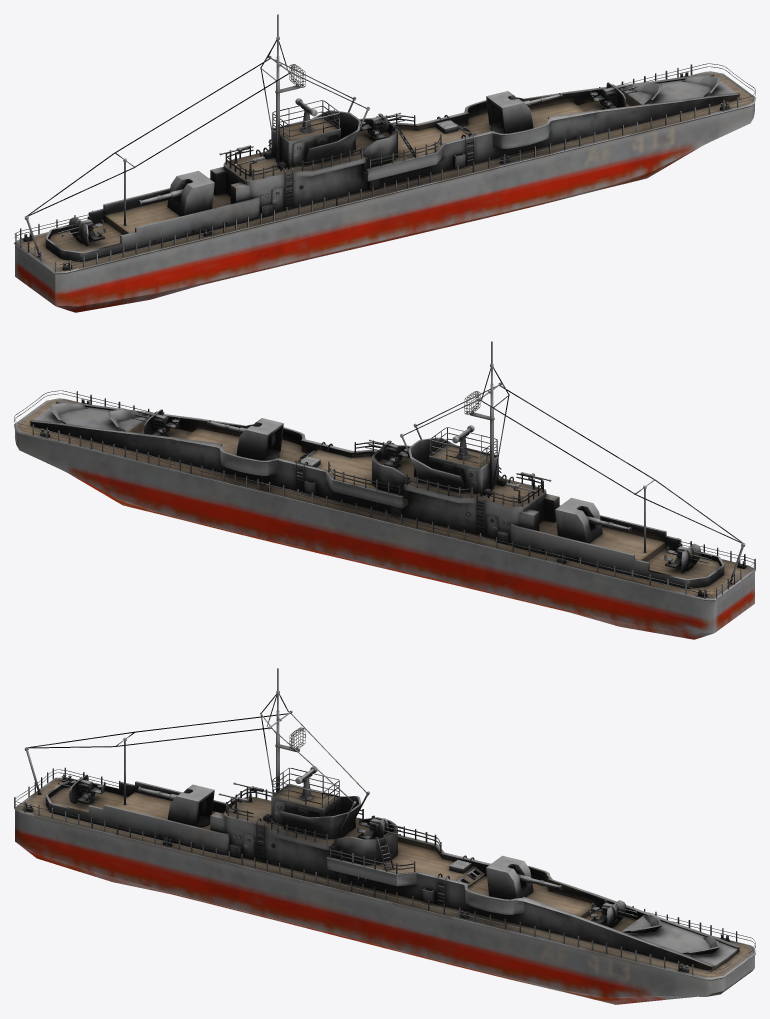
3 renders of one model, top to bottom at view 1: azimuth 30°, elevation 25°; view 2: azimuth 150°, elevation 25°; view 3: azimuth 330°, elevation 25°, orthographic.
Parts seen in each view (by area): view 1: body; view 2: body; view 3: body.
Boxes of the visible parts, left/top/right/bottom form: body: left=14, top=14, right=755, bottom=312; body: left=14, top=341, right=755, bottom=639; body: left=14, top=668, right=755, bottom=1004.
Size of the model in its own units: 142 by 45.42 by 15.7.
2 materials, 2 textured.
